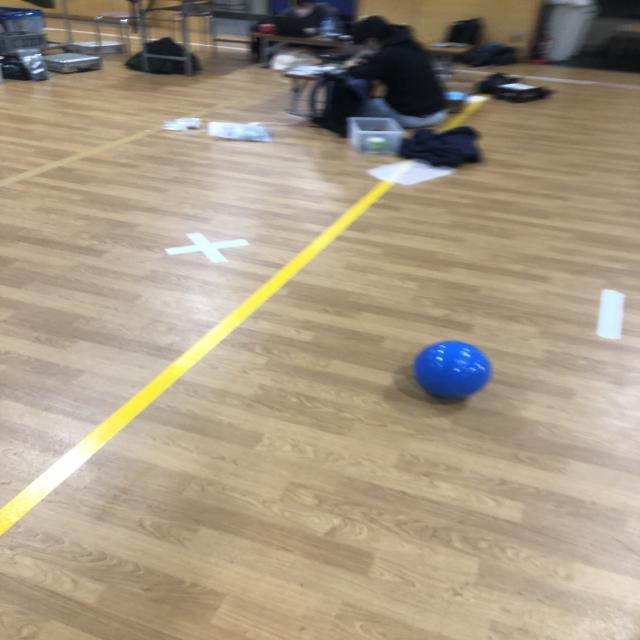blue_ball: (418, 339, 496, 403)
